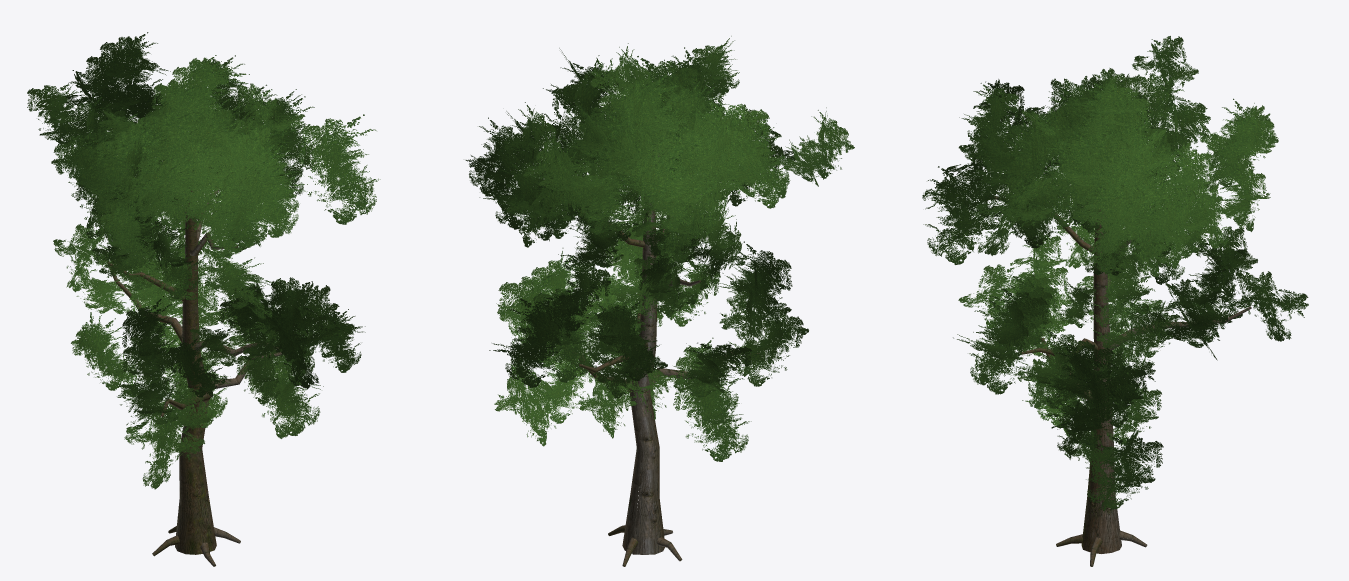
Rendered from tree_broadleaf_c.glb.
3 renders of one model, left to right at view 1: azimuth 30°, elevation 25°; view 2: azimuth 150°, elevation 25°; view 3: azimuth 270°, elevation 25°, orthographic. The views are drawn at different scales.
Parts seen in each view (by area): view 1: tree_broadleaf_c; view 2: tree_broadleaf_c; view 3: tree_broadleaf_c.
Part boxes in pixels (x1,y1,x2,y2): tree_broadleaf_c: (27,32,380,566); tree_broadleaf_c: (465,36,854,566); tree_broadleaf_c: (922,36,1308,566).
Size of the model in its own units: 5.74 by 8.25 by 6.82.
Materials: 2 (2 with a texture image).
